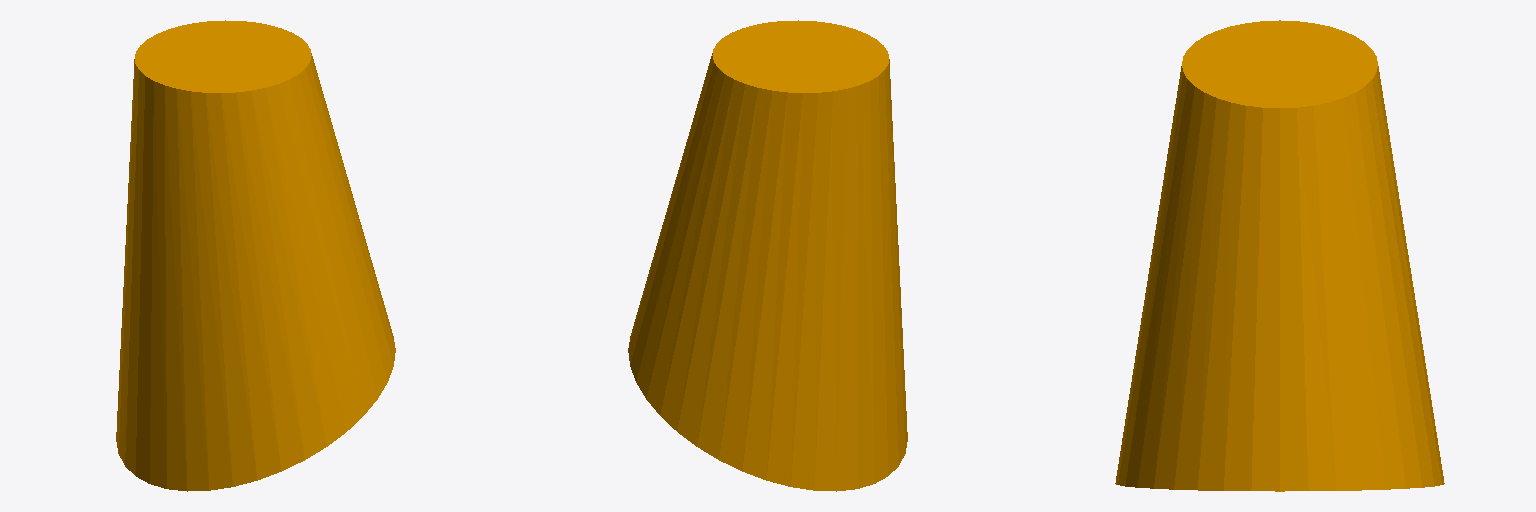
URDF robot description (model.urdf):
<?xml version="0.0" ?>
<robot name="model.urdf">
  <link name="baseLink">
    <contact>
      <friction_anchor/>
      <lateral_friction value="1.0"/>
      <spinning_friction value="0.03"/>
      <rolling_friction value="0.0"/>
      <contact_cfm value="0.1"/>
      <contact_erp value="1.0"/>
    </contact>
    <inertial>
       <origin rpy="0 0 0" xyz="0 0 -0.02"/>
       <mass value=".100"/>
       <inertia ixx="1e-3" ixy="0" ixz="0" iyy="1e-3" iyz="0" izz="1e-3"/>
    </inertial>
    <visual>
      <geometry>
        <mesh filename="mesh.obj" scale="1 1 1"/>
      </geometry>
    </visual>
    <collision>
      <geometry>
    	 	<mesh filename="mesh.obj" scale="1 1 1"/>
      </geometry>
    </collision>
  </link>
</robot>

--- Render facts (derived) ---
The picture shows the robot from 3 angles, left to right: view 1: azimuth 30°, elevation 25°; view 2: azimuth 150°, elevation 25°; view 3: azimuth 270°, elevation 25°; orthographic projection.
Robot: model.urdf — 1 links, 0 joints (none); root link baseLink; default pose: every joint at zero.
Links seen in each view (by area): view 1: baseLink; view 2: baseLink; view 3: baseLink.
Boxes of the visible links, x1,y1,x2,y2 form: baseLink: [116, 20, 395, 491]; baseLink: [628, 20, 907, 491]; baseLink: [1115, 20, 1444, 491].
Size in the robot's own frame: 0.0594 by 0.0607 by 0.0938 metres.
Meshes: 1 distinct files referenced, 1 mesh visuals loaded (1 OBJ).